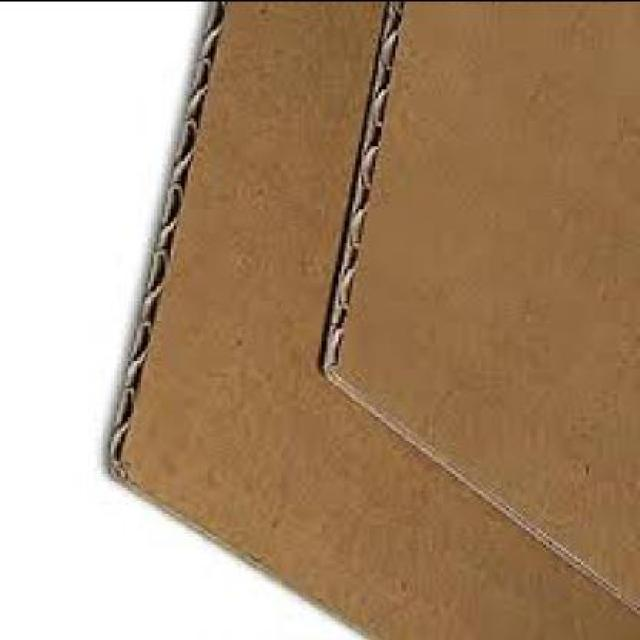cardboard: (111, 1, 640, 638), (324, 2, 638, 616)
